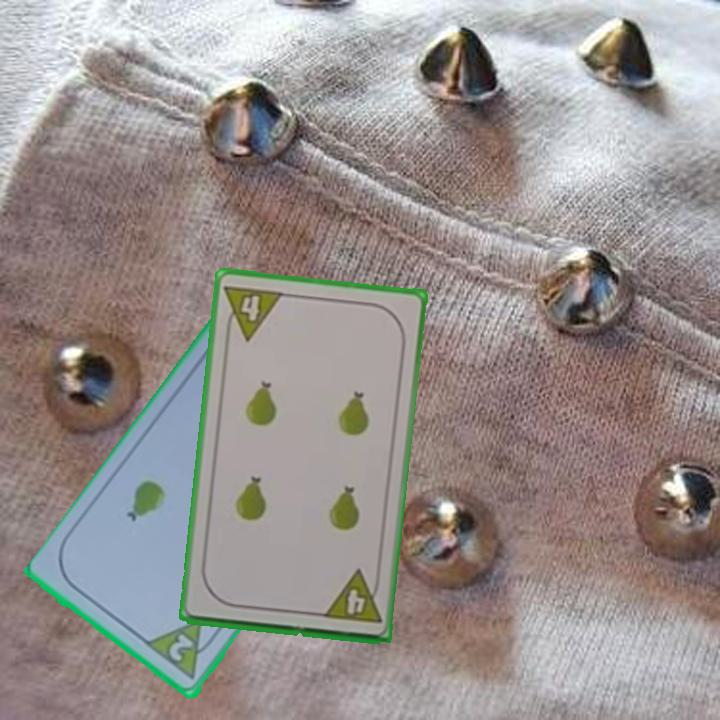2p: (165, 630, 197, 666)
4p: (221, 281, 286, 343), (319, 567, 384, 626)
